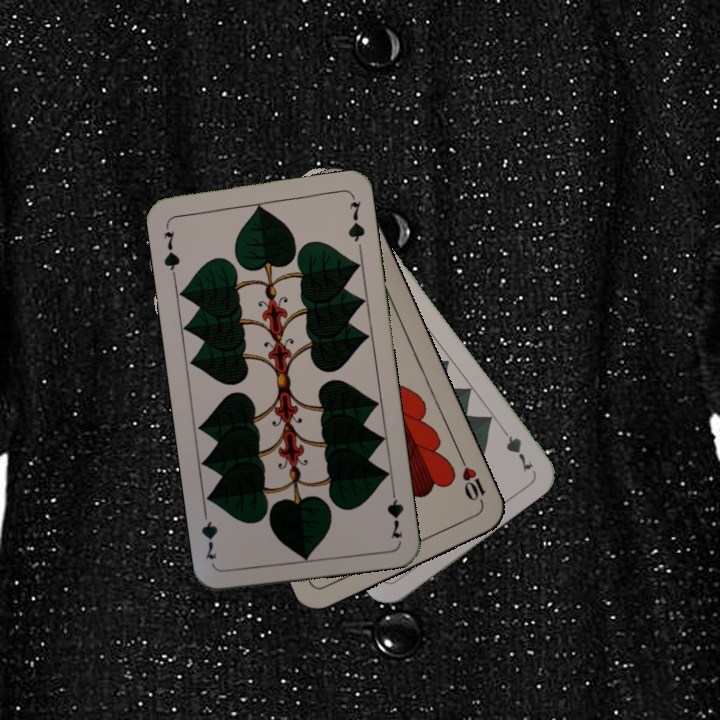G7: (495, 421, 537, 476), (383, 482, 406, 541), (159, 227, 183, 279)
H10: (456, 453, 489, 510)
